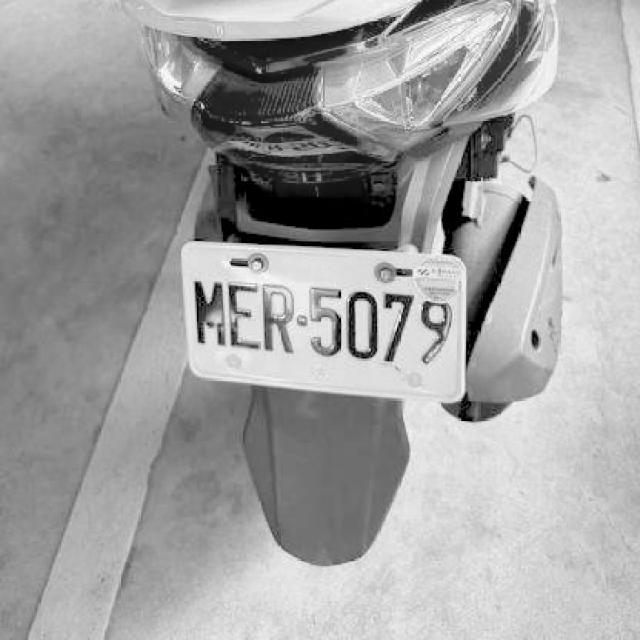-: (296, 314, 306, 326)
0: (345, 289, 380, 363)
5: (303, 286, 343, 357)
7: (380, 292, 418, 366)
9: (417, 294, 452, 364)
E: (223, 280, 260, 352)
H: (261, 284, 297, 356)
M: (189, 276, 223, 346)
